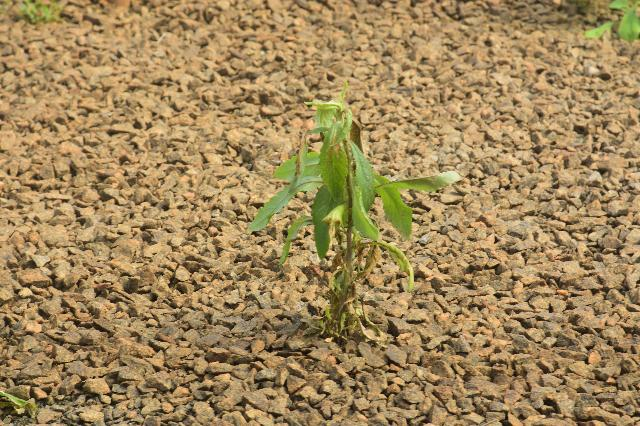MalezaMontesDelPlata: (242, 81, 471, 351)
